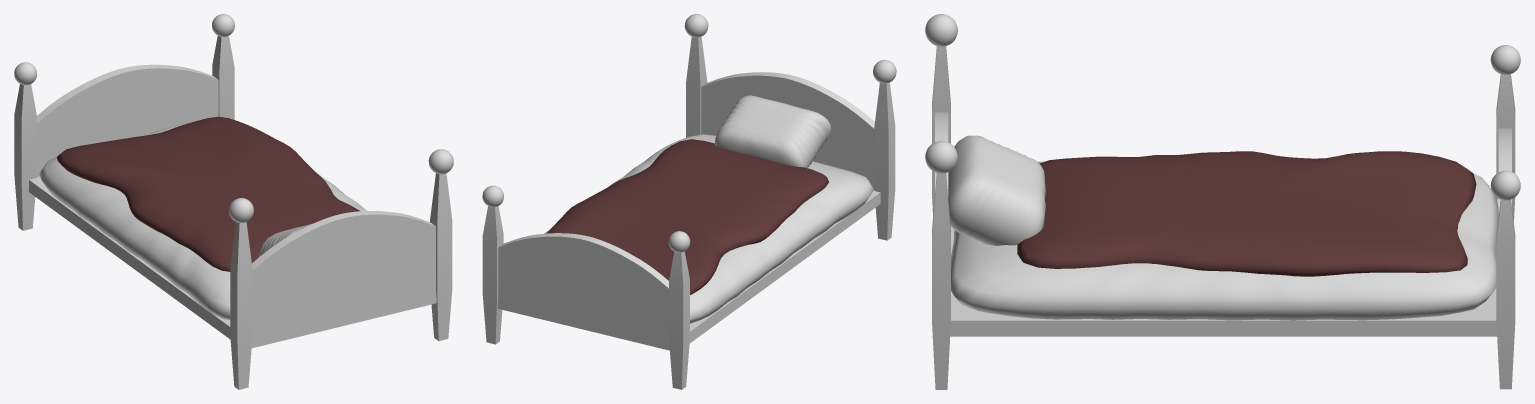
Rendered from Lit3_6.fbx.
The picture shows the model from 3 angles, left to right: view 1: azimuth 30°, elevation 25°; view 2: azimuth 150°, elevation 25°; view 3: azimuth 270°, elevation 25°; orthographic projection. The views are drawn at different scales.
Parts seen in each view (by area): view 1: pCylinder245, pCube954, pCube959, pCylinder247, pCube955, pCube956, pCube957, pCube960, pCube958, pCylinder246; view 2: pCylinder245, pCube959, pCylinder247, pCube954, pCylinder246, pCube955, pCube957, pCube960, pCube958, pCube956; view 3: pCylinder245, pCylinder247, pCube960, pCylinder246, pCube956, pCube958, pCube955, pCube957, pCube959.
Part boxes in pixels (bbox=[...]): pCylinder245: bbox=[56, 116, 360, 271]; pCube954: bbox=[251, 211, 436, 348]; pCube959: bbox=[37, 64, 218, 176]; pCylinder247: bbox=[39, 123, 366, 319]; pCube955: bbox=[229, 198, 253, 389]; pCube956: bbox=[428, 149, 453, 340]; pCube957: bbox=[14, 62, 37, 230]; pCube960: bbox=[28, 176, 230, 339]; pCube958: bbox=[212, 14, 234, 119]; pCylinder246: bbox=[259, 223, 312, 256]; pCylinder245: bbox=[547, 139, 828, 294]; pCube959: bbox=[497, 233, 669, 350]; pCylinder247: bbox=[544, 134, 873, 323]; pCube954: bbox=[701, 72, 874, 189]; pCylinder246: bbox=[715, 95, 830, 167]; pCube955: bbox=[873, 60, 896, 240]; pCube957: bbox=[668, 231, 690, 389]; pCube960: bbox=[689, 190, 880, 343]; pCube958: bbox=[482, 185, 503, 344]; pCube956: bbox=[684, 14, 708, 137]; pCylinder245: bbox=[1017, 151, 1476, 276]; pCylinder247: bbox=[951, 161, 1498, 320]; pCube960: bbox=[950, 199, 1498, 336]; pCylinder246: bbox=[948, 135, 1045, 245]; pCube956: bbox=[925, 141, 957, 389]; pCube958: bbox=[1490, 170, 1520, 389]; pCube955: bbox=[925, 14, 957, 215]; pCube957: bbox=[1490, 45, 1520, 222]; pCube959: bbox=[1498, 128, 1511, 214].
Size of the model in its own units: 82.19 by 66.59 by 147.
